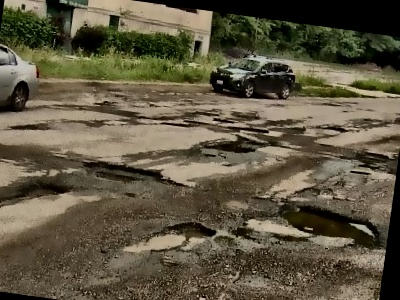pothole: (275, 199, 388, 252), (132, 212, 221, 262), (81, 156, 188, 192), (20, 179, 69, 203), (203, 137, 259, 157)
